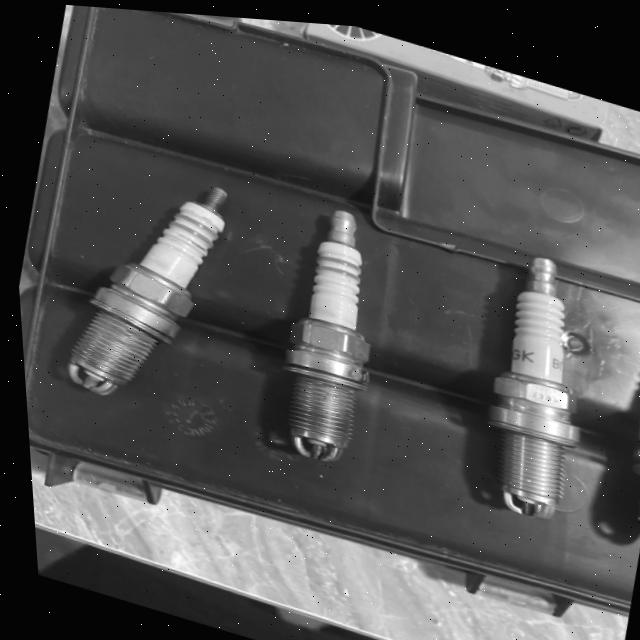spark-plug: (437, 217, 631, 536), (55, 158, 248, 409), (245, 183, 408, 471)
